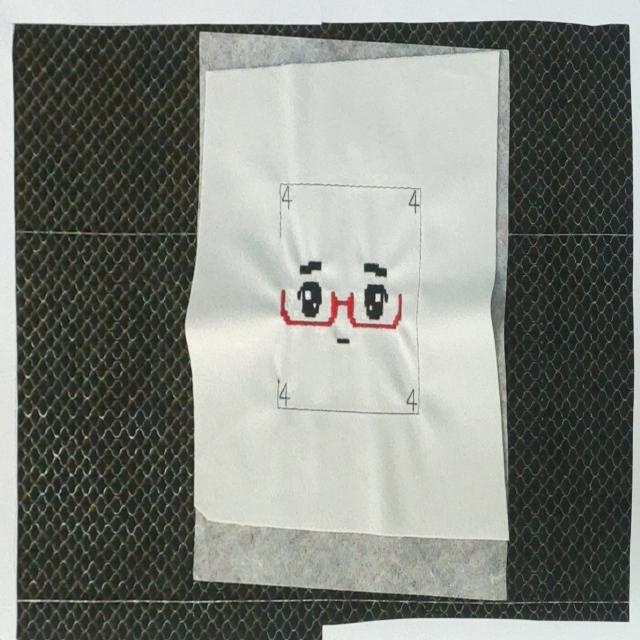4 -: (280, 184, 294, 213), (280, 378, 292, 408), (406, 190, 420, 215), (406, 384, 418, 411)
